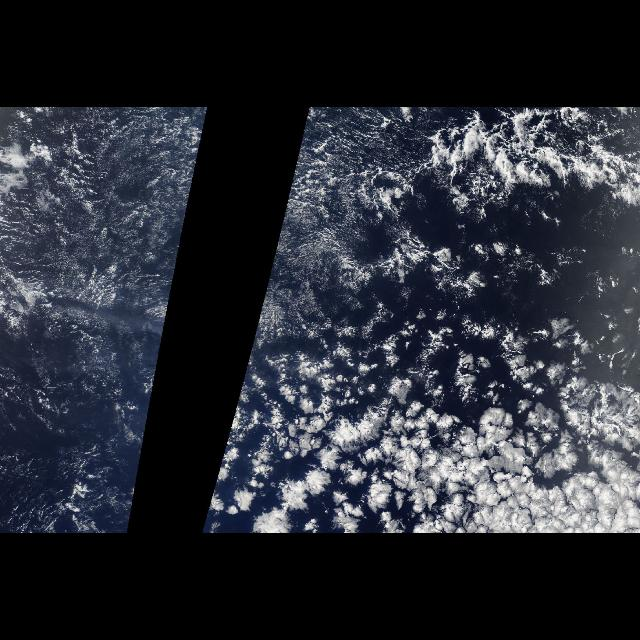Fish: (420, 111, 638, 212)
Flower: (227, 331, 635, 533)
Gravel: (284, 126, 431, 310)
Sugar: (253, 108, 632, 340), (2, 111, 208, 529)
